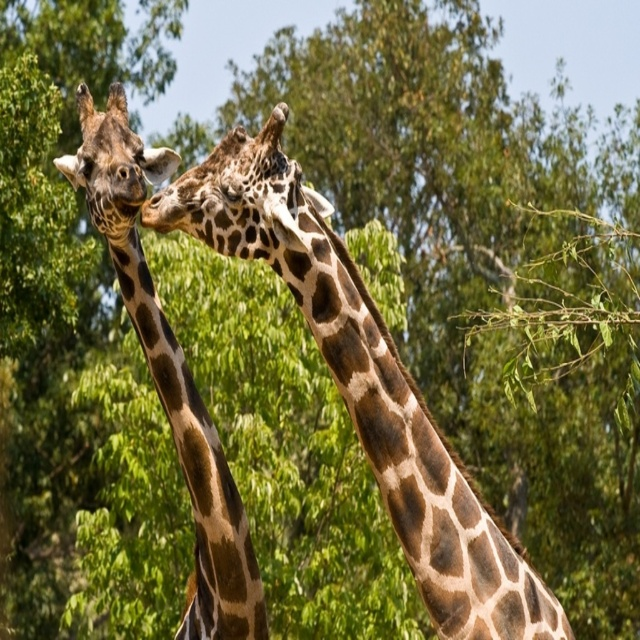Giraffe: (139, 103, 582, 639), (54, 84, 271, 639)
